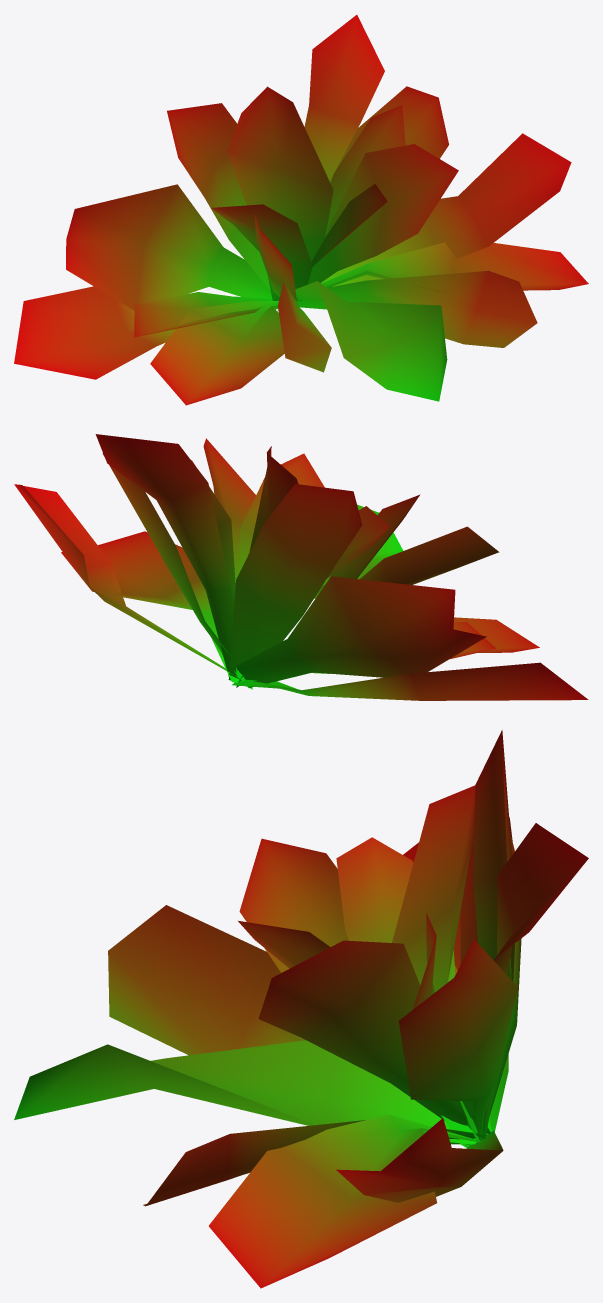
The model's file is Var21_LOD1.fbx.
3 views of the same model, one above another, from view 1: azimuth 30°, elevation 25°; view 2: azimuth 150°, elevation 25°; view 3: azimuth 270°, elevation 25° (orthographic). The views are drawn at different scales.
Visible parts, largest first — view 1: _jgv3_Var21_LOD1; view 2: _jgv3_Var21_LOD1; view 3: _jgv3_Var21_LOD1.
Boxes of the visible parts, x1,y1,x2,y2 form: _jgv3_Var21_LOD1: [14, 15, 588, 405]; _jgv3_Var21_LOD1: [14, 434, 588, 700]; _jgv3_Var21_LOD1: [14, 730, 588, 1288].
Size of the model in its own units: 23.97 by 10.12 by 14.12.
